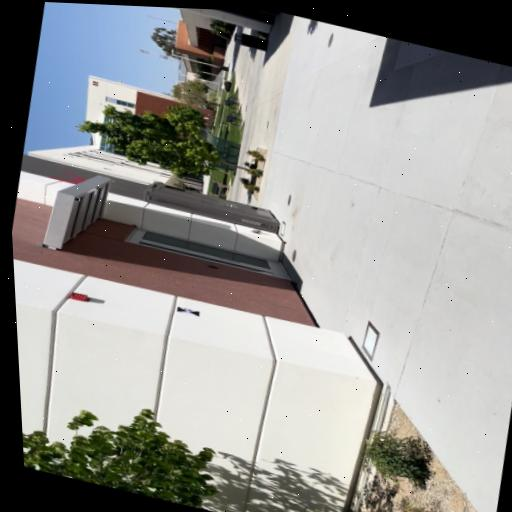target2: (177, 307, 199, 317)
